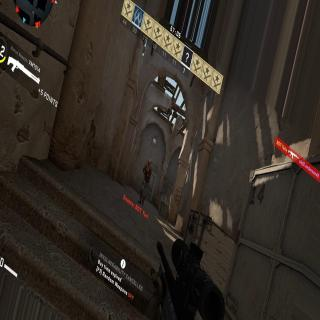T-Body: (136, 158, 153, 206)
T-Head: (148, 159, 150, 166)
